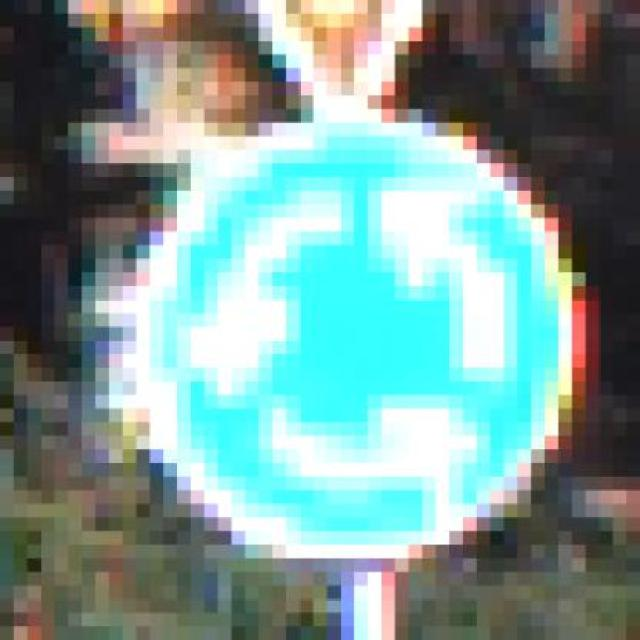Round-About: (122, 82, 613, 586)
